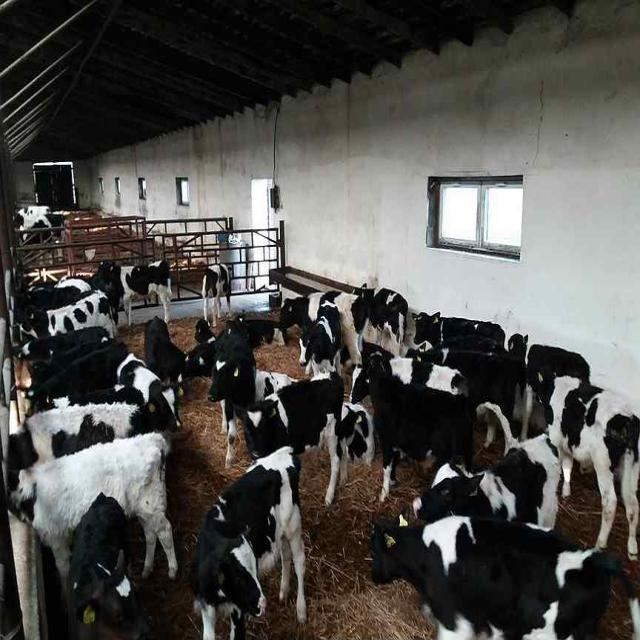cow: (4, 268, 638, 638), (370, 512, 634, 638), (189, 443, 307, 639), (200, 262, 231, 328)
